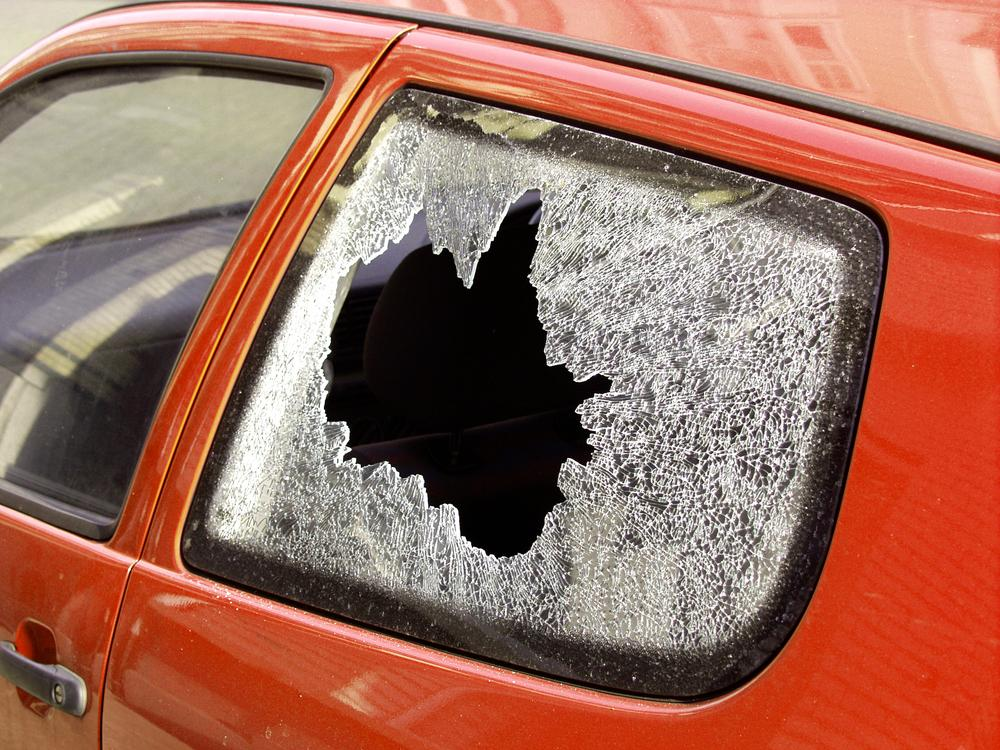glass shatter: (180, 88, 884, 698)
